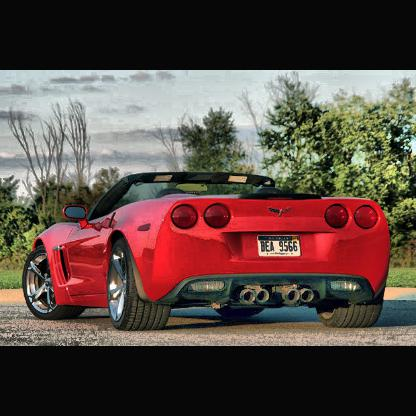Chevrolet Corvette Convertible 2012: (19, 168, 394, 337)
